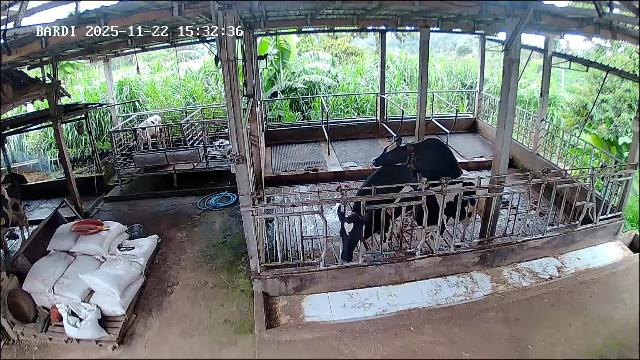mounting: (372, 138, 463, 185)
